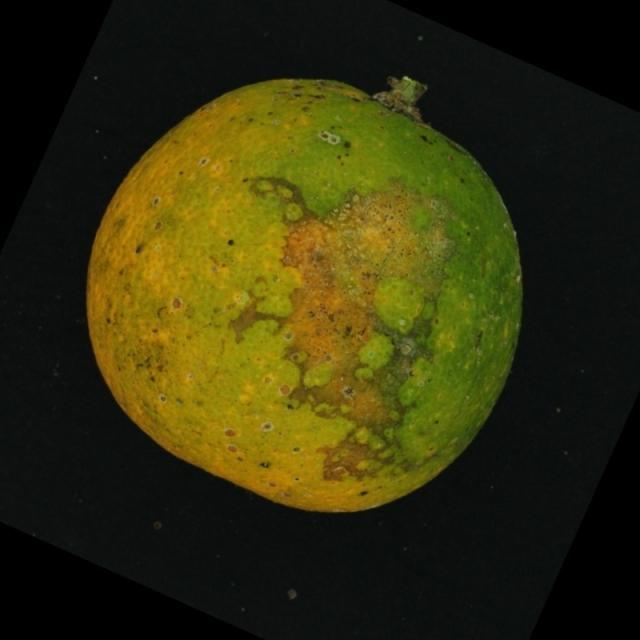grenning: (74, 46, 549, 534)
